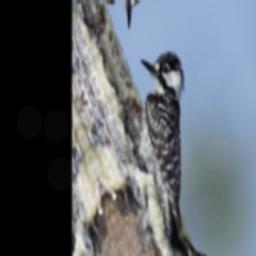Woodpecker: (92, 22, 226, 256)
